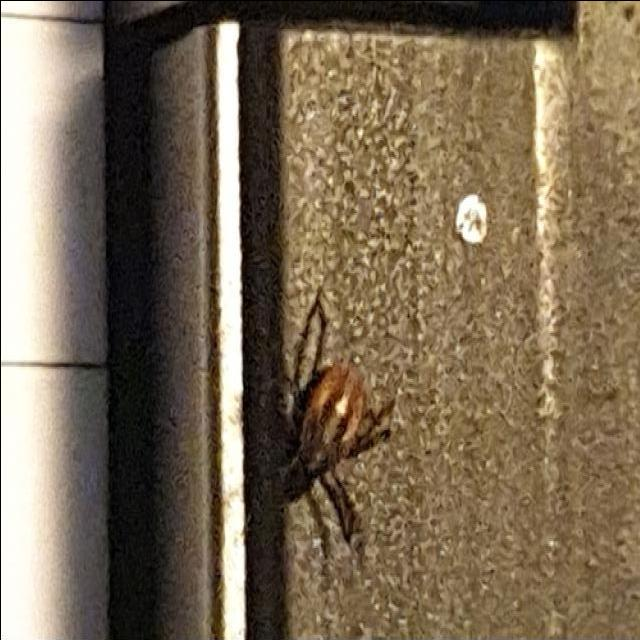Ixodes Ricinus-F-Fed: (279, 300, 394, 544)
